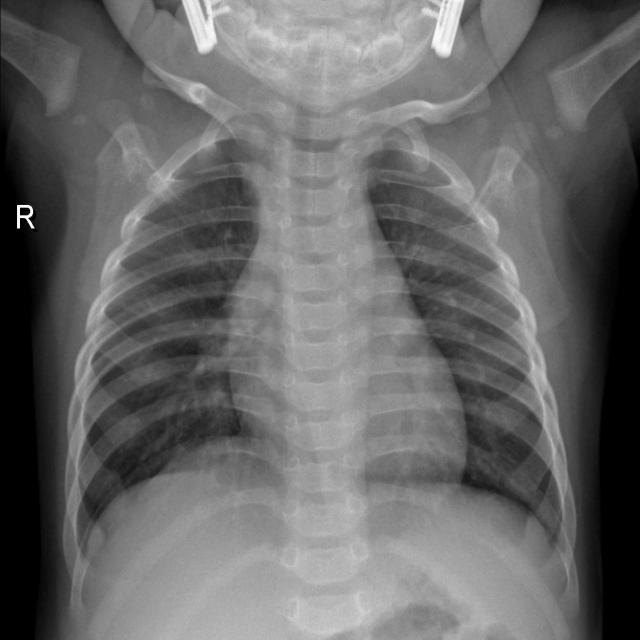normal_lung: (5, 4, 640, 640)
